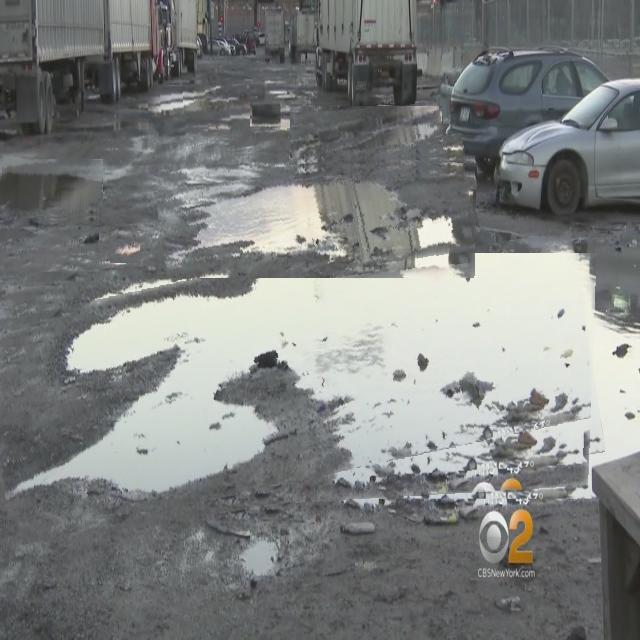Pothole: (0, 253, 598, 521), (158, 147, 477, 278), (289, 106, 443, 165), (0, 159, 103, 223), (148, 85, 250, 143), (110, 229, 142, 263)
